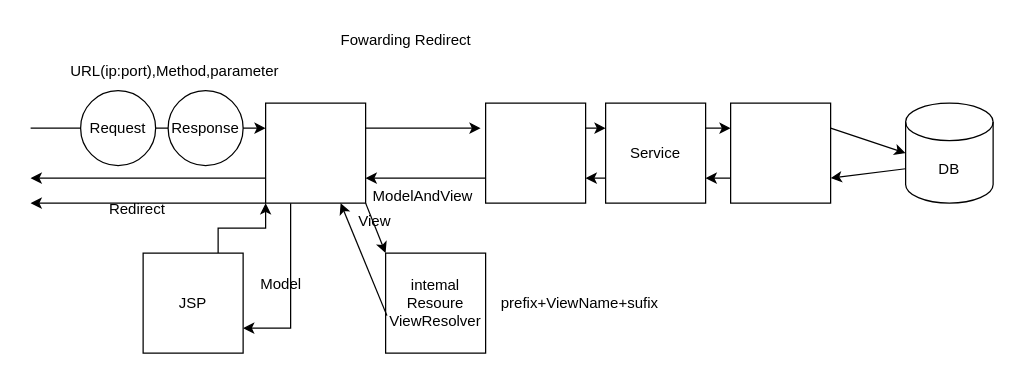
Some shapes in this 1015 by 375 pixel diagram are drawn without their labels. Here are the shapes that lost their labels. From the top down, the centre of each, then its label:
the point at 315,152: DS (Dispacher Sevelt)
the point at 535,152: Controller
the point at 780,152: DAO
